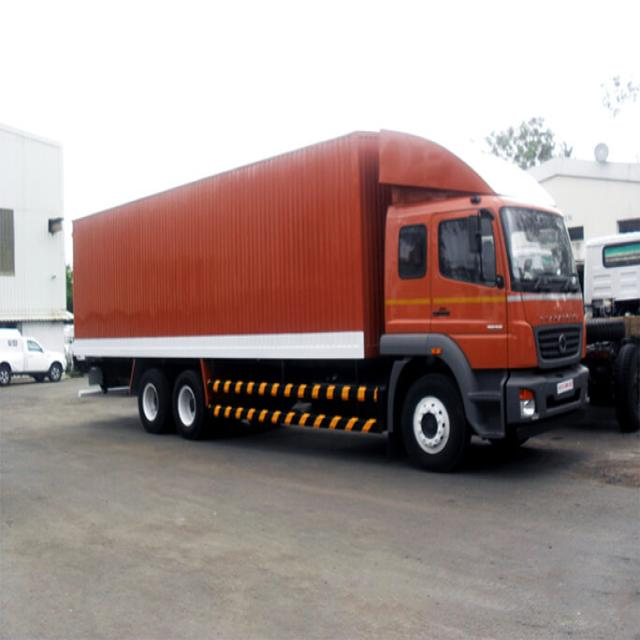truck: (75, 130, 589, 470)
